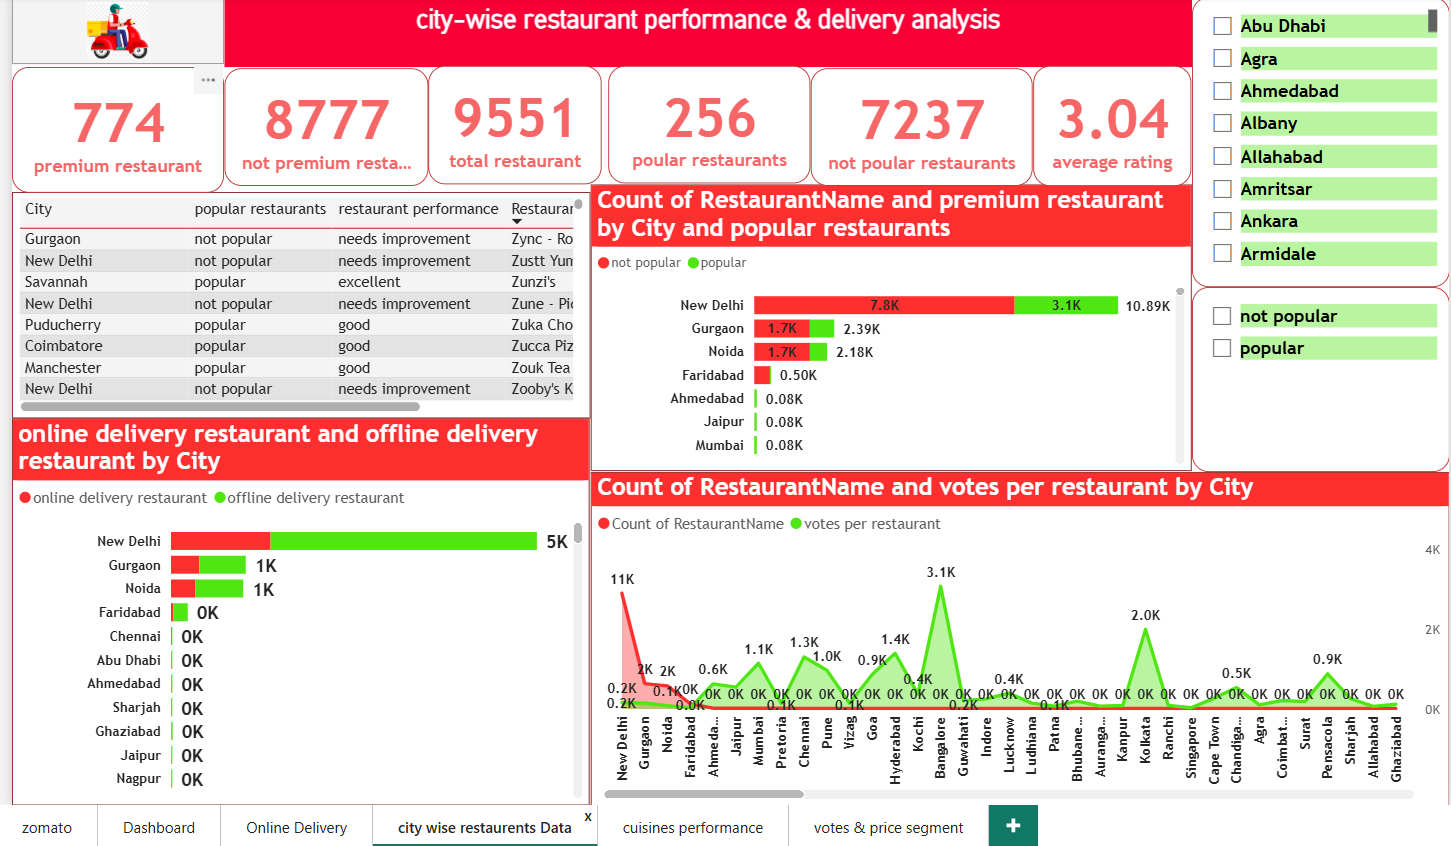

What the dashboard file says about the page in this screenshot:
{"tool":"powerbi","page":{"name":"city wise restaurents Data","canvas":[1280,720],"ordinal":3},"visuals":[{"type":"barChart","fields":{"Category":["Sheet1.City"],"Y":["CountNonNull(Sheet1.RestaurantName)"],"Series":["Sheet1.popular restaurants"]},"box":[515.1,167.4,535.3,255.4],"z":0},{"type":"tableEx","fields":{"Values":["Sheet1.City","Sheet1.popular restaurants","Sheet1.restarent performance","Sheet1.RestaurantName"]},"box":[0,173.1,515.1,202],"z":1000},{"type":"barChart","fields":{"Category":["Sheet1.City"],"Y":["Sheet1.online delivery restarents","Sheet1.offline delivery restarents"]},"box":[0,375.7,514.4,344.5],"z":2000},{"type":"slicer","fields":{"Values":["Sheet1.City"]},"box":[1050.3,0,229.4,258.3],"z":3000},{"type":"areaChart","fields":{"Category":["Sheet1.City"],"Y":["CountNonNull(Sheet1.RestaurantName)"],"Y2":["Sheet1.votes per restaurant"]},"box":[515.1,422.7,764.7,297.2],"z":4000},{"type":"slicer","fields":{"Values":["Sheet1.popular restaurants"]},"box":[1050.3,258.3,229.4,164.5],"z":5000},{"type":"textbox","box":[189,0,861.3,62],"z":6000},{"type":"card","fields":{"Values":["Sheet1.premium restarents"]},"box":[0,62.3,188.6,112.2],"z":7000},{"type":"card","fields":{"Values":["Sheet1.average rating"]},"box":[909.3,61,140.6,107],"z":8000},{"type":"card","fields":{"Values":["Sheet1.poular restaurants"]},"box":[531.2,61,180.4,104.5],"z":9000},{"type":"card","fields":{"Values":["Sheet1.total restarent"]},"box":[370.6,61.4,154.6,105.5],"z":10000},{"type":"card","fields":{"Values":["Sheet1.not poular restaurants"]},"box":[711.5,63.4,197.8,104.5],"z":11000},{"type":"card","fields":{"Values":["Sheet1.not premium restarents"]},"box":[189.1,63.4,181.6,104.5],"z":12000},{"type":"image","box":[0,0,189,60.6],"z":13000}]}

Visuals, with their boxes in screenshot pixels (x1, y1, x2, y2):
barChart - Sheet1.City x CountNonNull(Sheet1.RestaurantName): 587,183,1186,469
tableEx - Sheet1.City x Sheet1.popular restaurants: 11,190,587,416
barChart - Sheet1.City x Sheet1.online delivery restarents: 11,416,586,801
slicer - Sheet1.City: 1185,0,1442,285
areaChart - Sheet1.City x CountNonNull(Sheet1.RestaurantName): 587,469,1442,801
slicer - Sheet1.popular restaurants: 1185,285,1442,469
textbox: 223,0,1185,66
card - Sheet1.premium restarents: 11,66,222,191
card - Sheet1.average rating: 1028,64,1185,184
card - Sheet1.poular restaurants: 605,64,807,181
card - Sheet1.total restarent: 426,65,598,183
card - Sheet1.not poular restaurants: 807,67,1028,184
card - Sheet1.not premium restarents: 223,67,426,184
image: 11,0,223,64
